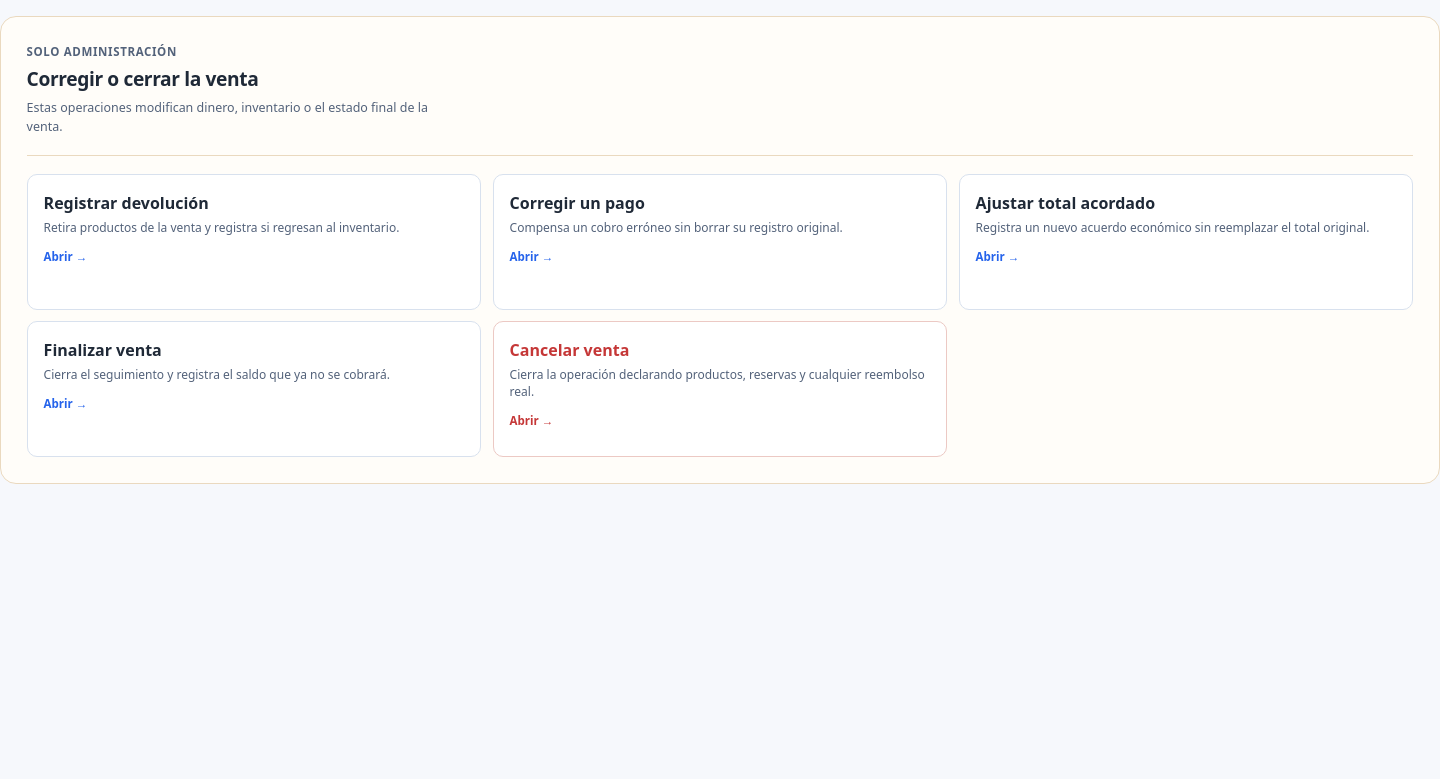
sale administration › cancels a sale with explicit product treatment and a manual refund
Click the button "Cancelar venta" at (569,350), box [493, 322, 947, 458]
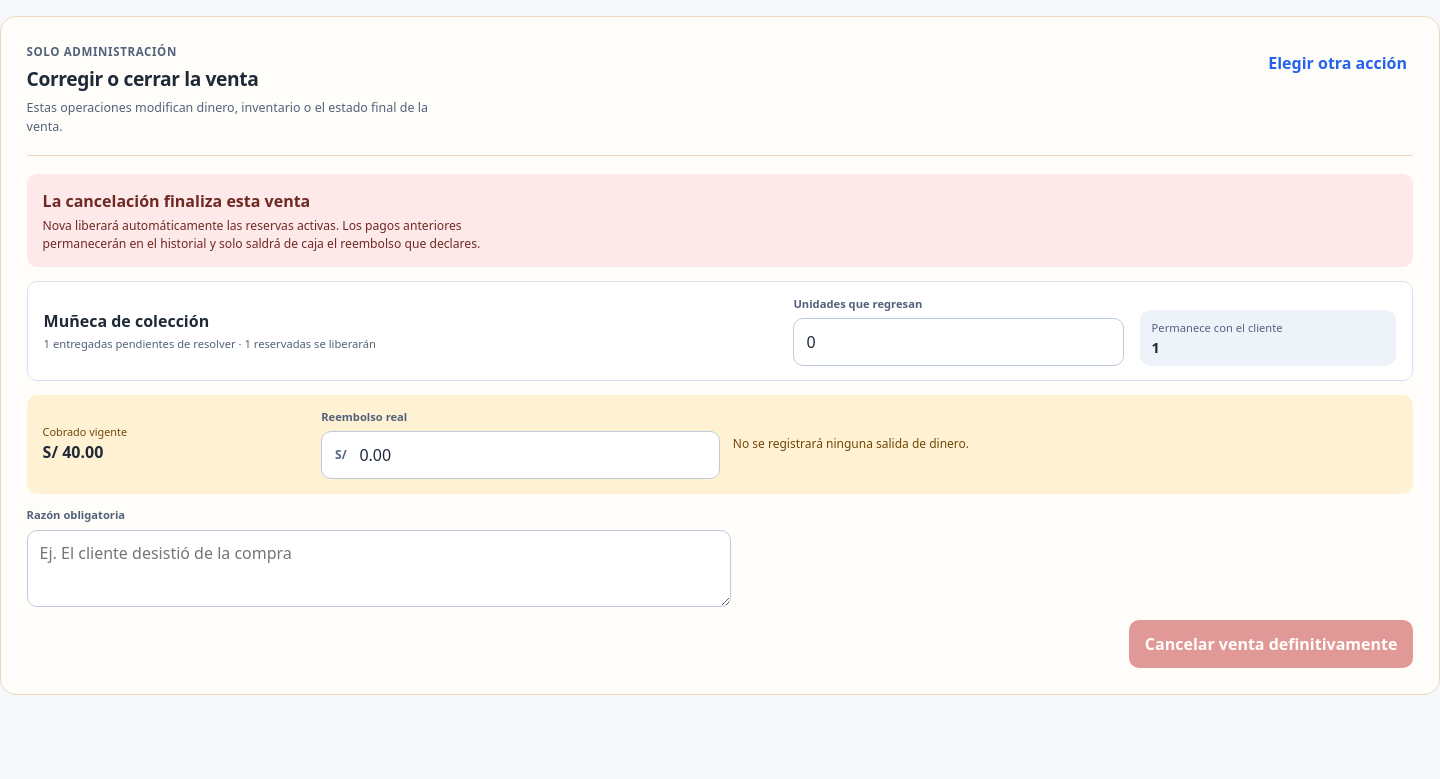
Replace the text in the number field named "Unidades que regresan de Muñeca de colección" with "1" at (958,342), box [793, 318, 1124, 366]
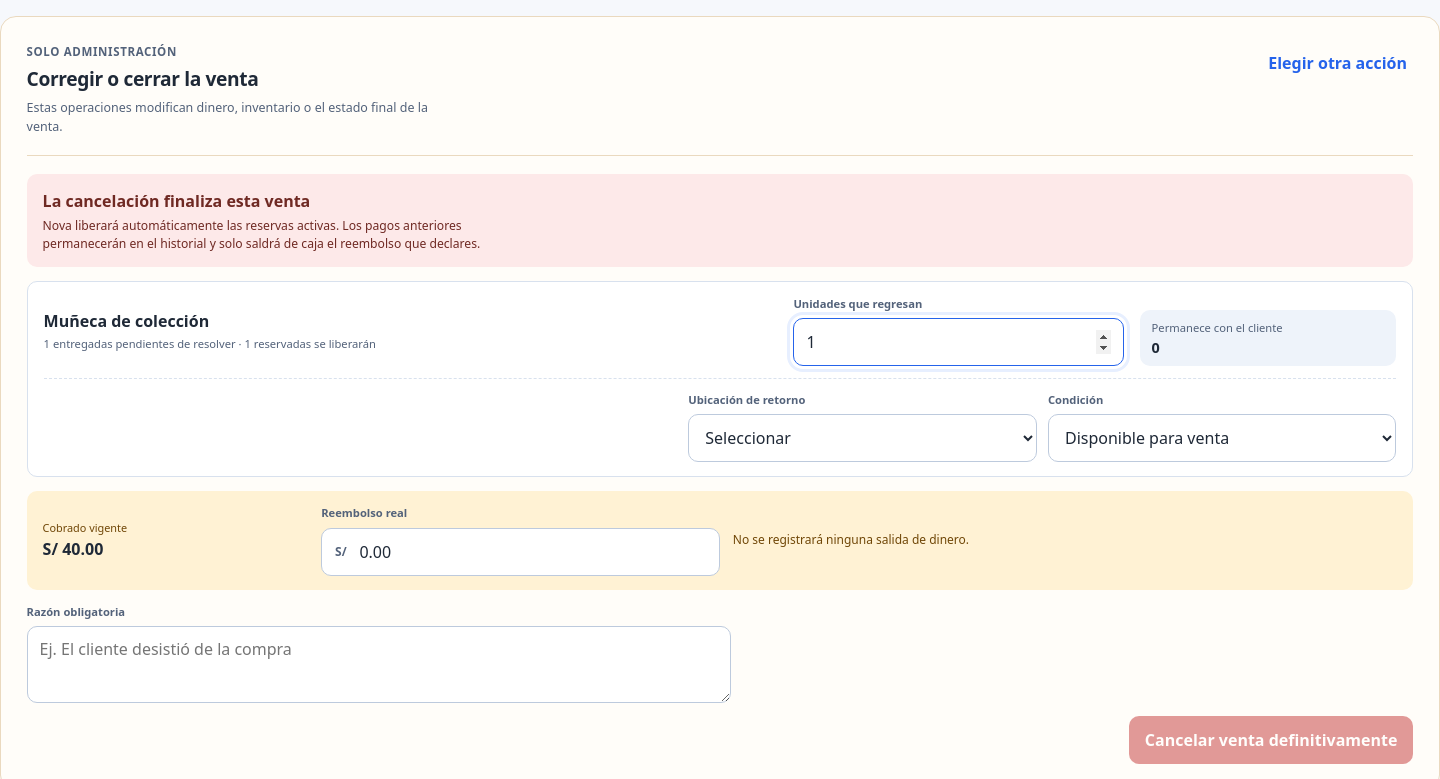
Select "Tienda" in the dropdown named "Ubicación de cancelación de Muñeca de colección" at (863,438), box [688, 414, 1037, 462]
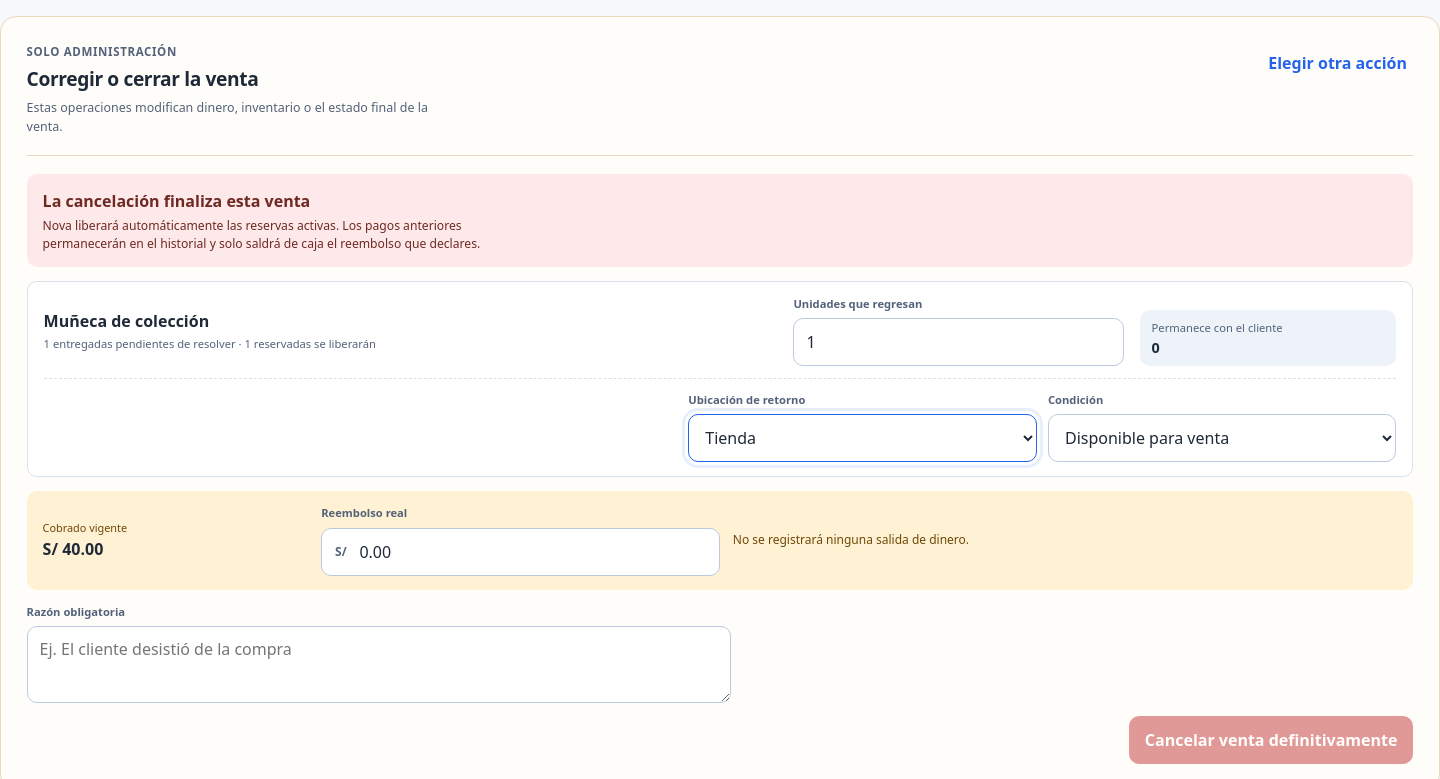
Replace the text in the field labelled "Reembolso real" with "20" at (533,552), box [347, 529, 719, 575]
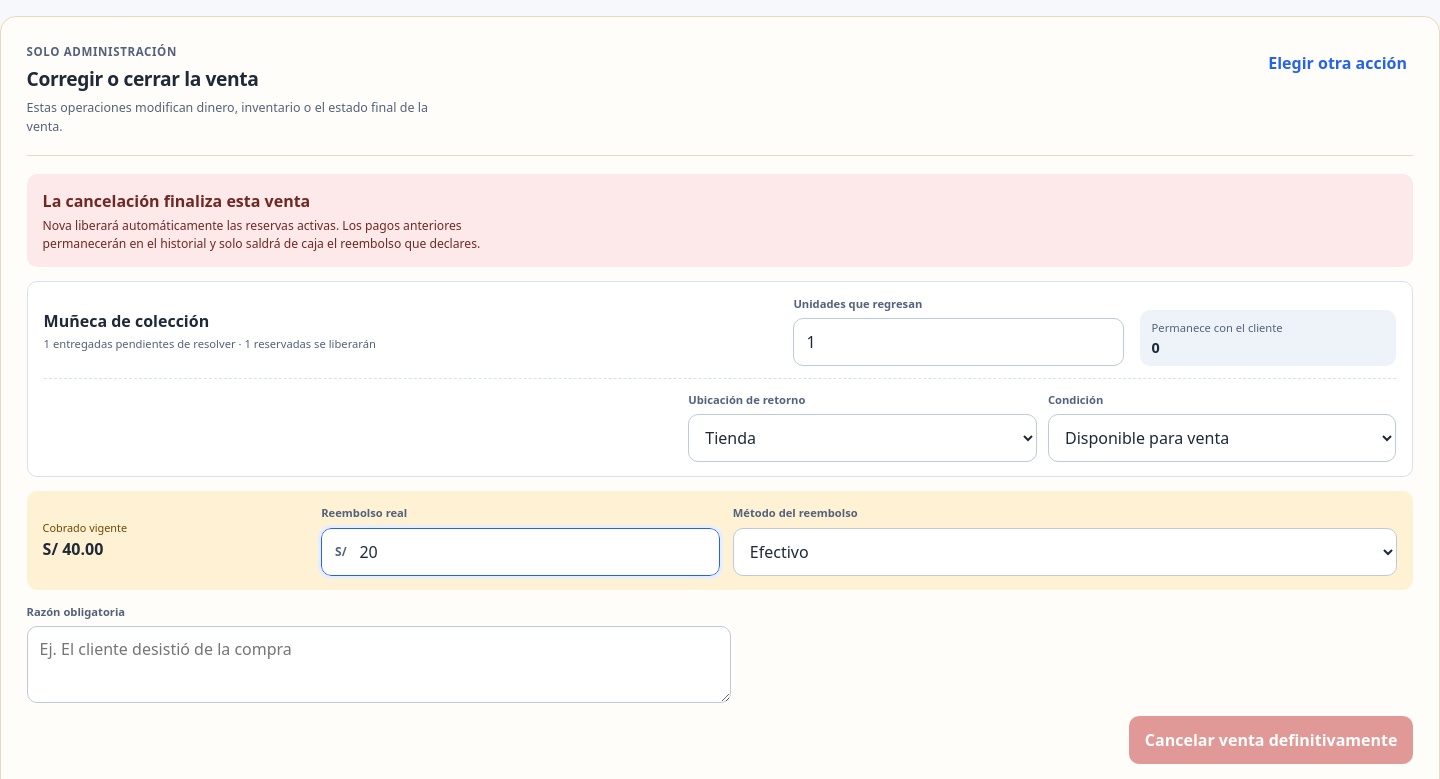
Type "El cliente desistió" into the text box labelled "Razón obligatoria" at (379,664), box [27, 626, 731, 703]
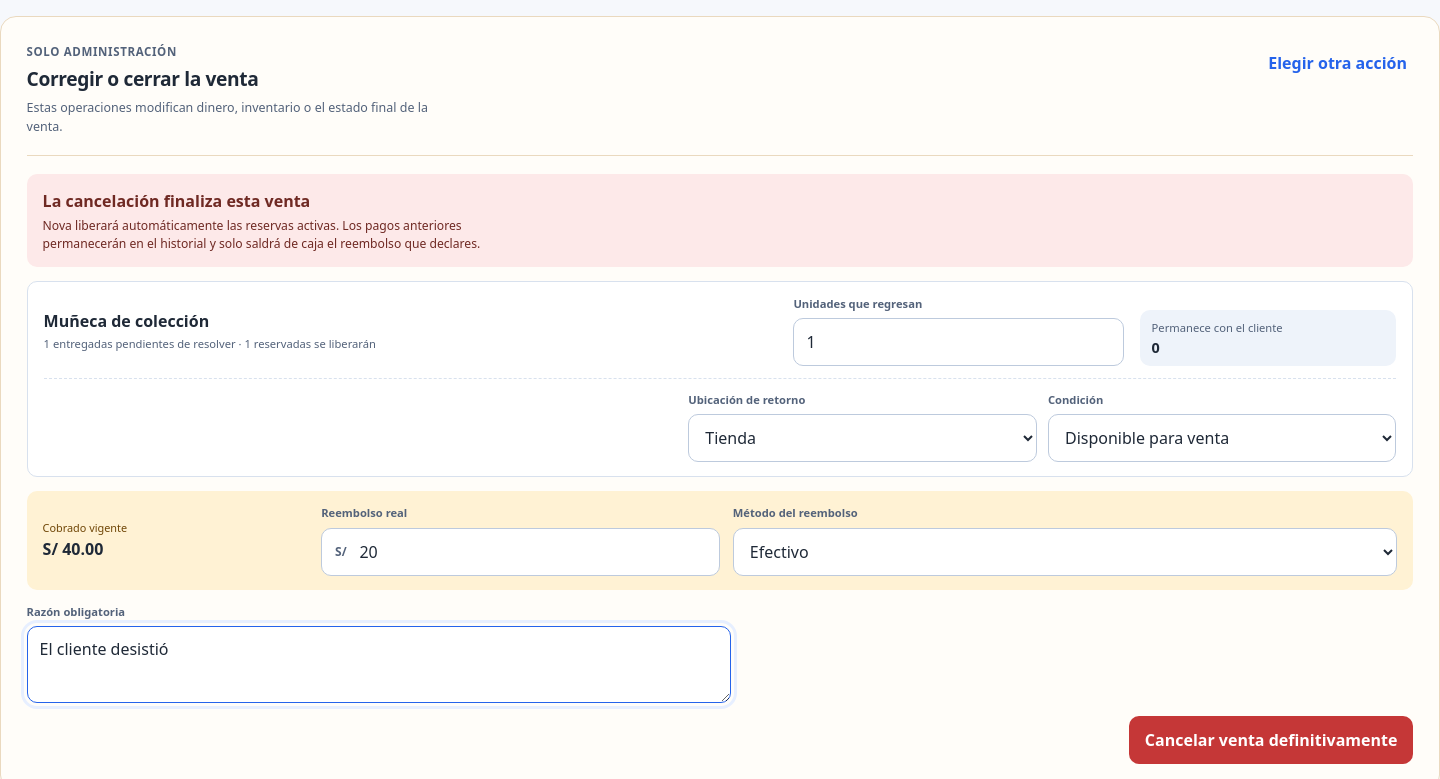
Click the button "Cancelar venta definitivamente" at (1271,740), box [1129, 716, 1413, 764]
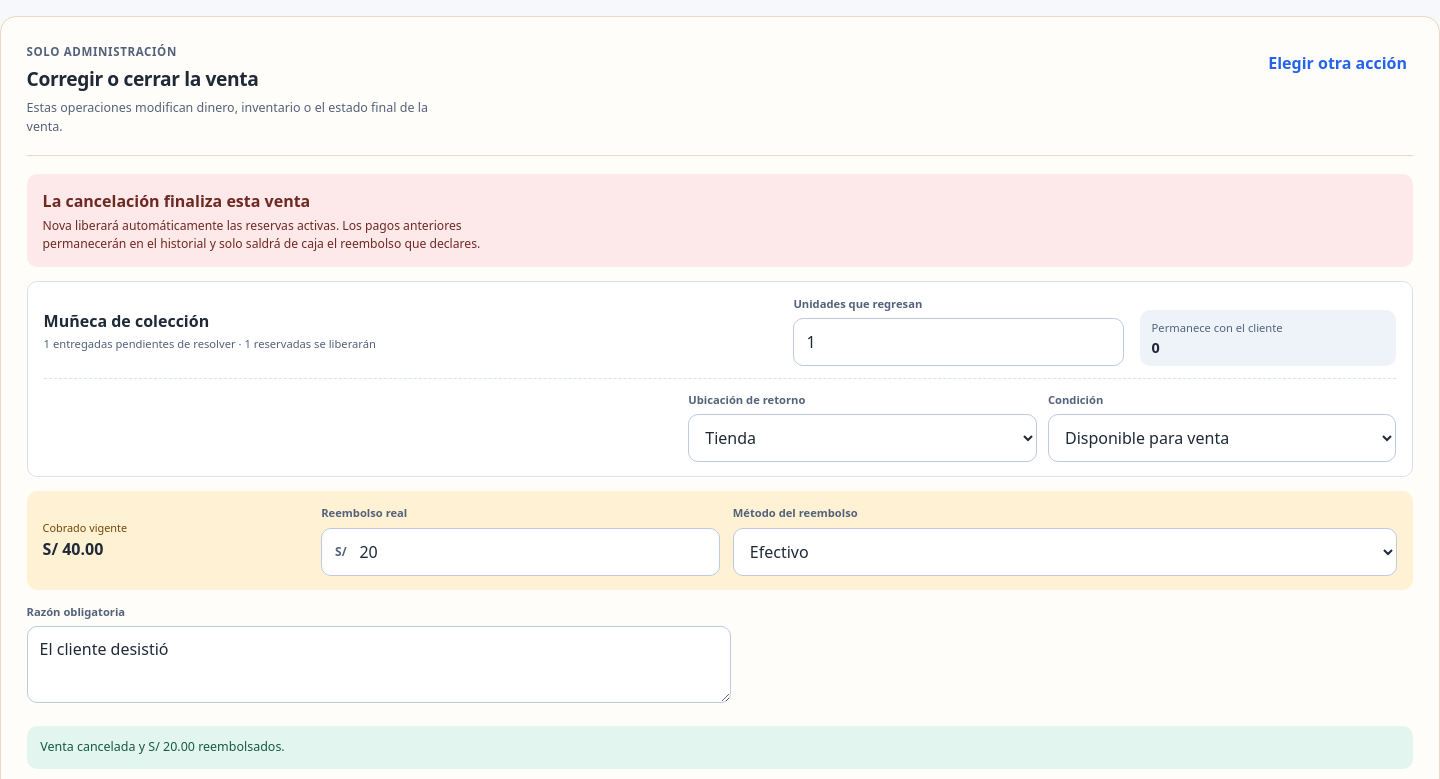
Now the text "Venta cancelada y S/ 20.00 reembolsados." is shown, box [27, 726, 1413, 769]
